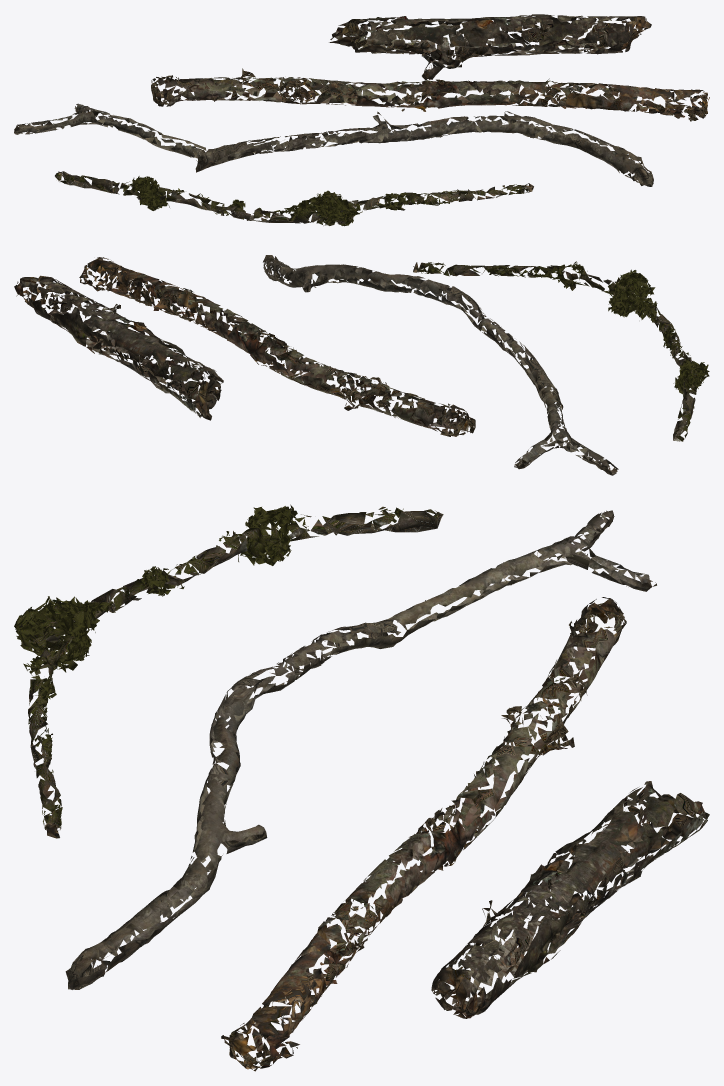
The picture shows the model from 3 angles, top to bottom: view 1: azimuth 30°, elevation 25°; view 2: azimuth 150°, elevation 25°; view 3: azimuth 270°, elevation 25°; orthographic projection. The views are drawn at different scales.
Parts seen in each view (by area): view 1: S1_0, S2_1, S3_2, S4_3; view 2: S1_0, S2_1, S3_2, S4_3; view 3: S1_0, S3_2, S2_1, S4_3.
Boxes of the visible parts, x1,y1,x2,y2 form: S1_0: (151, 68, 709, 121); S2_1: (329, 14, 651, 79); S3_2: (14, 103, 653, 186); S4_3: (55, 171, 533, 226); S1_0: (79, 257, 475, 436); S2_1: (14, 275, 223, 420); S3_2: (263, 255, 618, 475); S4_3: (413, 261, 709, 441); S1_0: (221, 597, 626, 1071); S3_2: (65, 510, 656, 989); S2_1: (431, 781, 709, 1018); S4_3: (14, 504, 443, 838).
Size of the model in its own units: 274 by 36.04 by 163.
Materials: 4 (4 with a texture image).
